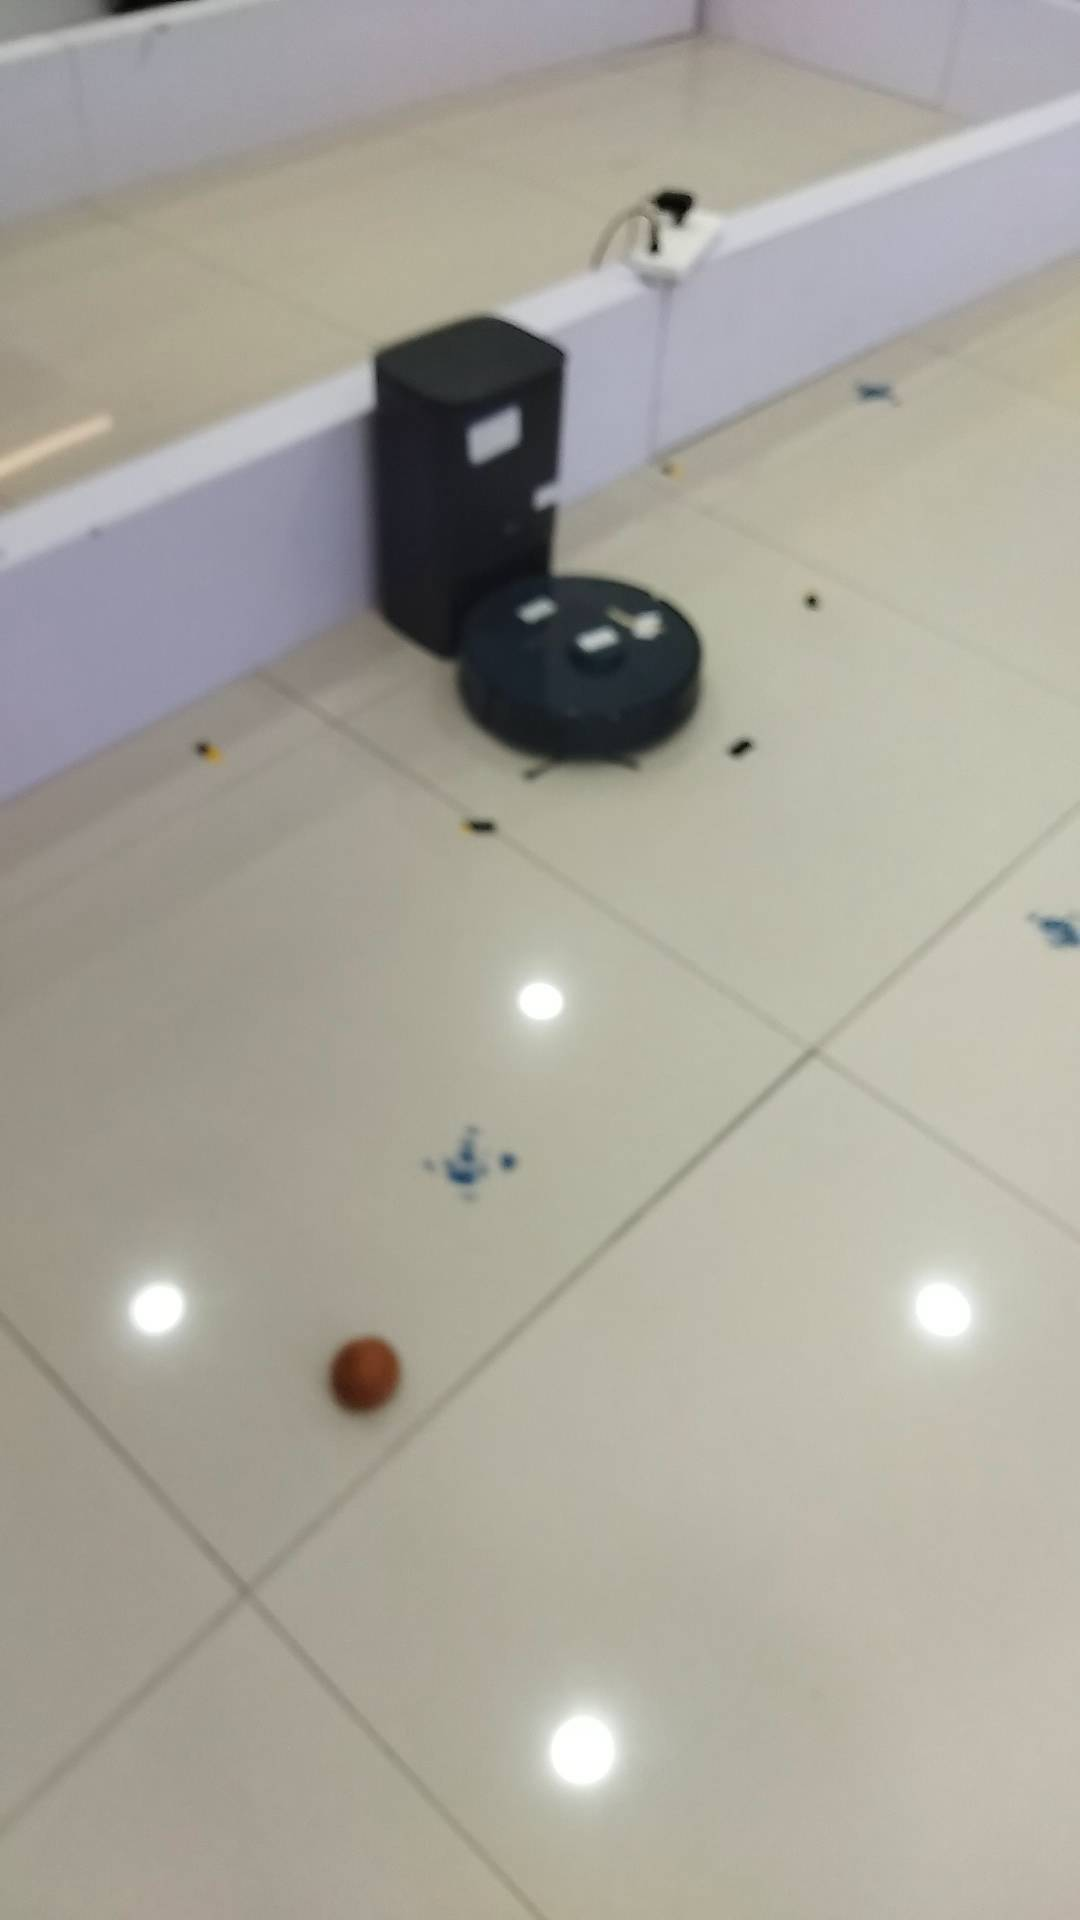dust collecting barrel: (376, 311, 570, 655)
